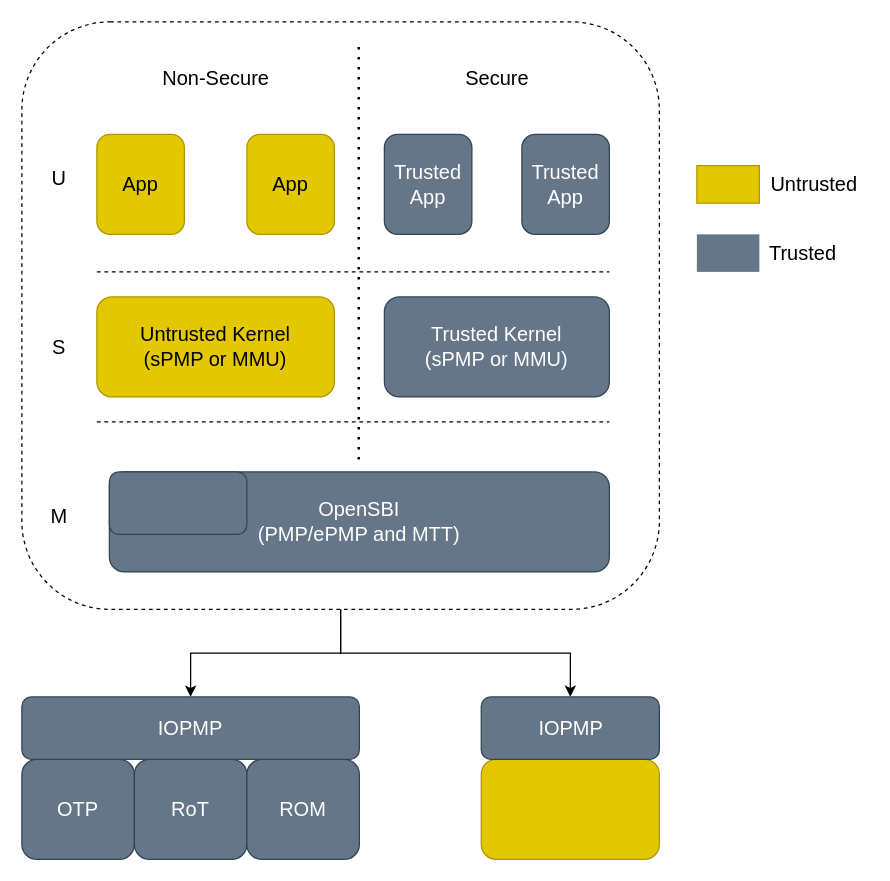
This 890x881 diagram has some shape labels left out. The box of each missing label's shape, as (x1, y1, x2, y2) in pixels:
RDSM: (108, 471, 247, 534)
SRAM: (480, 758, 659, 859)
